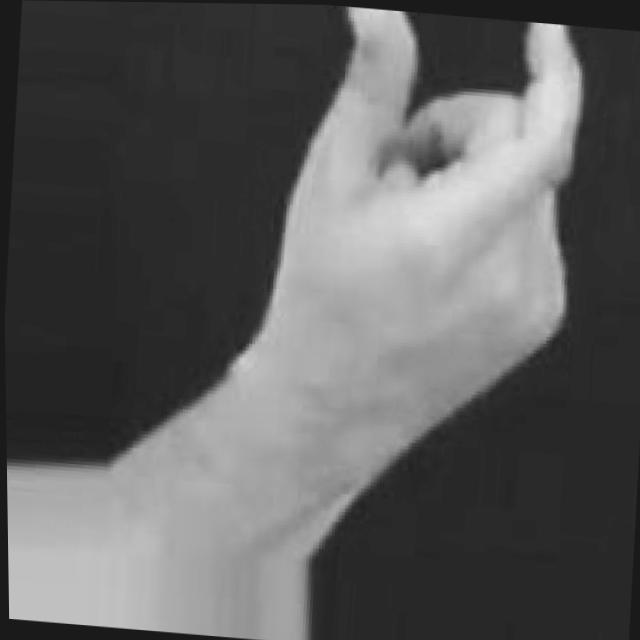U: (239, 4, 592, 423)
